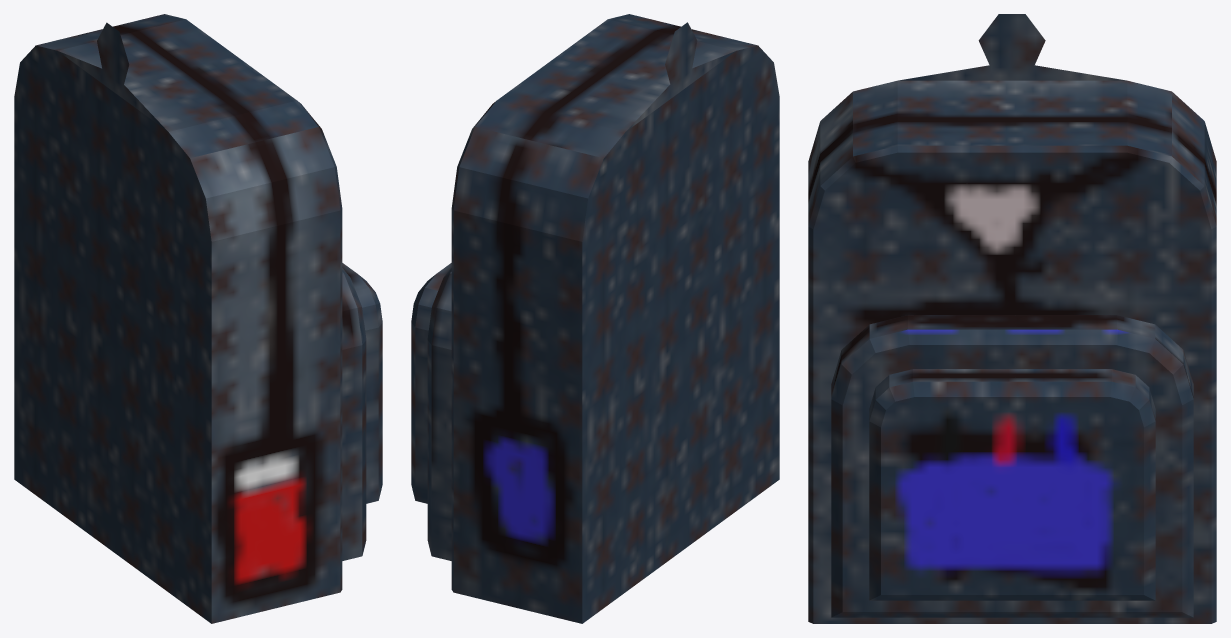
The model's file is Schoolbag.fbx.
3 views of the same model, side by side, from view 1: azimuth 30°, elevation 25°; view 2: azimuth 150°, elevation 25°; view 3: azimuth 270°, elevation 25° (orthographic). The views are drawn at different scales.
Visible parts, largest first — view 1: Schoolbag; view 2: Schoolbag; view 3: Schoolbag.
Boxes of the visible parts, x1,y1,x2,y2 form: Schoolbag: (14,14,382,623); Schoolbag: (411,14,779,623); Schoolbag: (808,14,1216,623).
Size of the model in its own units: 27.61 by 67.13 by 45.77.
